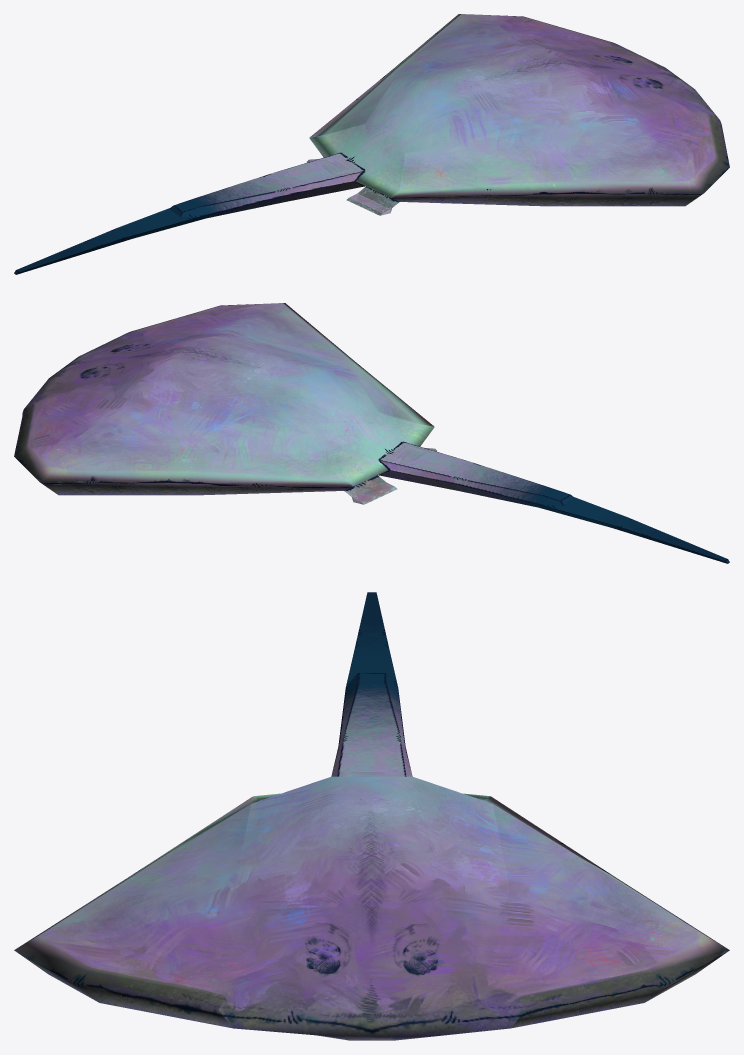
File: Stingray.fbx
The picture shows the model from 3 angles, top to bottom: view 1: azimuth 30°, elevation 25°; view 2: azimuth 150°, elevation 25°; view 3: azimuth 270°, elevation 25°; orthographic projection. The views are drawn at different scales.
Parts seen in each view (by area): view 1: Stingray1; view 2: Stingray1; view 3: Stingray1.
Boxes of the visible parts, bbox=[...] form: Stingray1: bbox=[14, 14, 729, 274]; Stingray1: bbox=[14, 303, 729, 563]; Stingray1: bbox=[14, 592, 729, 1040].
Bounding box in the file's own units: 2.18 × 0.2935 × 1.38.
1 material, 1 textured.
